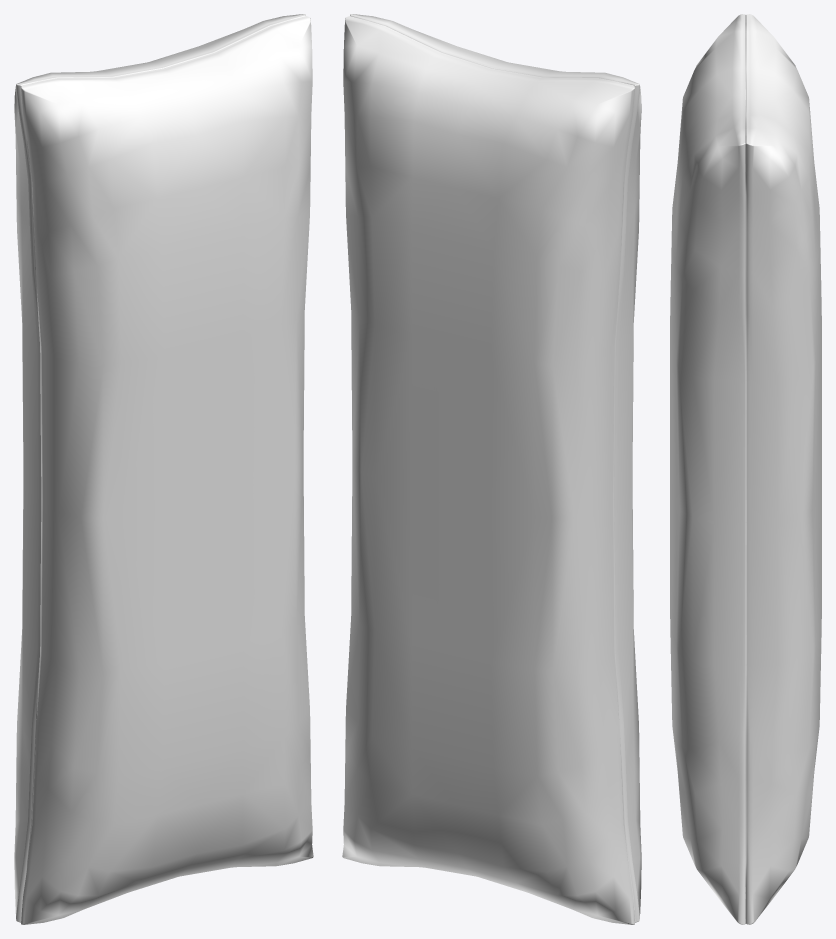
File: dakimakura.obj
The picture shows the model from 3 angles, left to right: view 1: azimuth 30°, elevation 25°; view 2: azimuth 150°, elevation 25°; view 3: azimuth 270°, elevation 25°; orthographic projection. The views are drawn at different scales.
Parts seen in each view (by area): view 1: dakimakura; view 2: dakimakura; view 3: dakimakura.
Part boxes in pixels (x1,y1,x2,y2): dakimakura: (14, 14, 313, 924); dakimakura: (342, 14, 641, 924); dakimakura: (670, 14, 821, 924).
Size of the model in its own units: 1.11 by 3.06 by 0.54.
